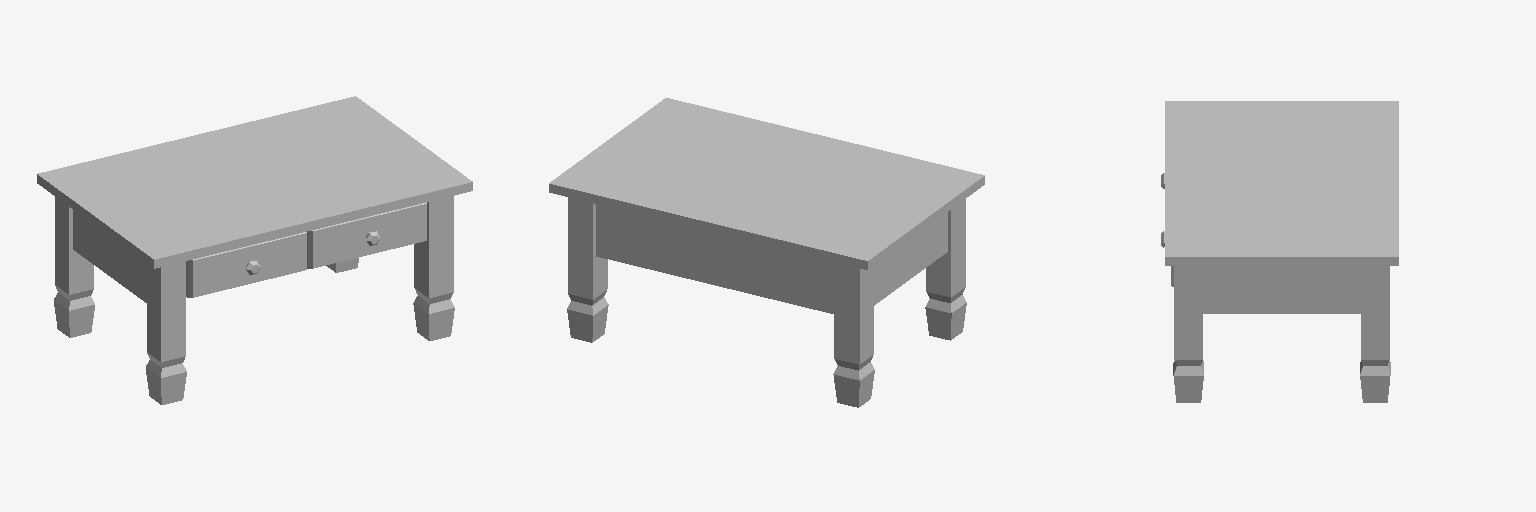
File: Table2.obj
The picture shows the model from 3 angles: view 1: azimuth 30°, elevation 25°; view 2: azimuth 150°, elevation 25°; view 3: azimuth 270°, elevation 25°; orthographic projection.
Parts seen in each view (by area): view 1: table.001_Cube.025; view 2: table.001_Cube.025; view 3: table.001_Cube.025.
Boxes of the visible parts, <box> form: table.001_Cube.025: <box>37,96,472,404</box>; table.001_Cube.025: <box>549,98,984,407</box>; table.001_Cube.025: <box>1161,101,1398,402</box>.
Bounding box in the file's own units: 4.4 × 2.04 × 2.85.